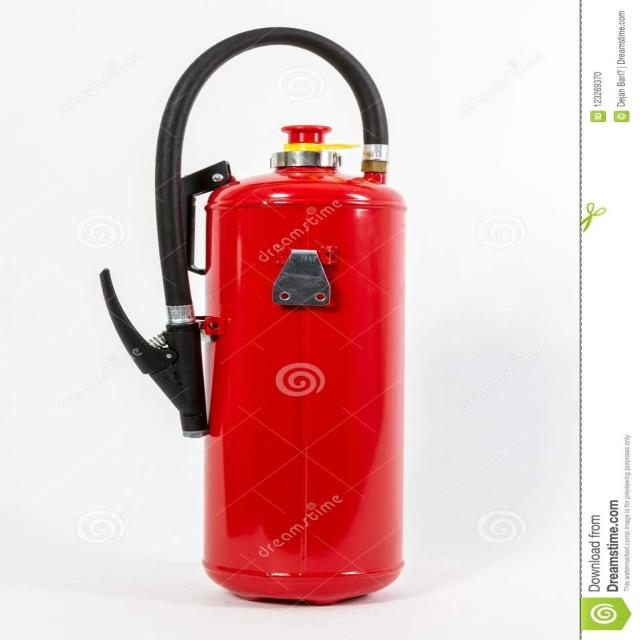fire_extinguisher: (90, 22, 412, 612)
